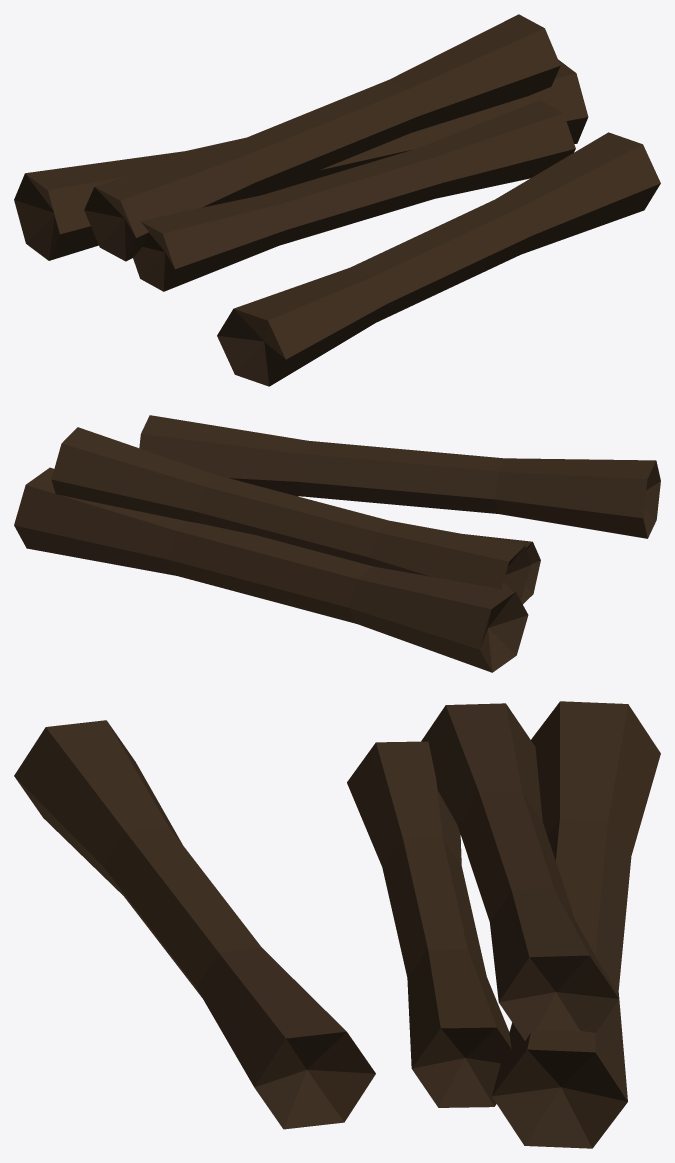
Rendered from ADDON_DUNGEON_SCROLLS_01.OBJ.
3 views of the same model, one above another, from view 1: azimuth 30°, elevation 25°; view 2: azimuth 150°, elevation 25°; view 3: azimuth 270°, elevation 25° (orthographic). The views are drawn at different scales.
Visible parts, largest first — view 1: ADDON_DUNGEON_SCROLLS_01; view 2: ADDON_DUNGEON_SCROLLS_01; view 3: ADDON_DUNGEON_SCROLLS_01.
Part boxes in pixels (x1,y1,x2,y2): ADDON_DUNGEON_SCROLLS_01: (14, 14, 660, 386); ADDON_DUNGEON_SCROLLS_01: (14, 415, 660, 672); ADDON_DUNGEON_SCROLLS_01: (14, 701, 660, 1148).
Bounding box in the file's own units: 0.3899 × 0.088 × 0.304.
